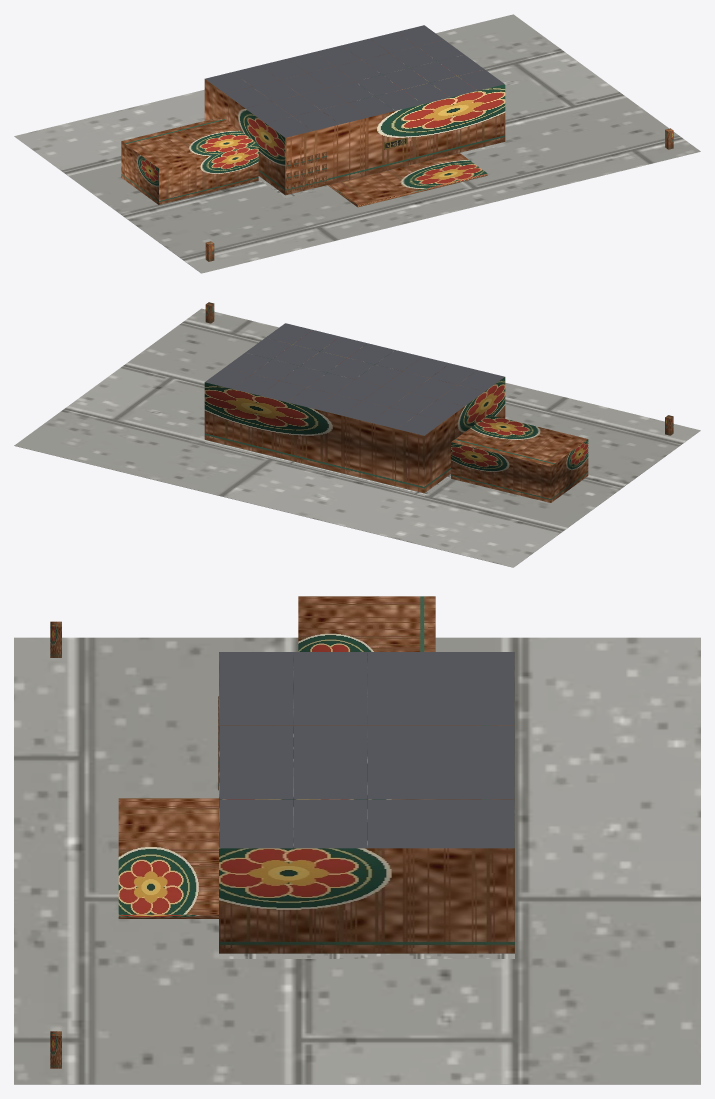
The picture shows the model from 3 angles, top to bottom: view 1: azimuth 30°, elevation 25°; view 2: azimuth 150°, elevation 25°; view 3: azimuth 270°, elevation 25°; orthographic projection. The views are drawn at different scales.
Visible parts, largest first — view 1: 11710_01_05710_030_01_L2__base, 11710_01_05710_030_02_L2__body, 11710_01_05710_030_03_L2__roof, 11710_01_05710_030_05_L2__openings; view 2: 11710_01_05710_030_01_L2__base, 11710_01_05710_030_02_L2__body, 11710_01_05710_030_03_L2__roof; view 3: 11710_01_05710_030_01_L2__base, 11710_01_05710_030_03_L2__roof, 11710_01_05710_030_02_L2__body, 11710_01_05710_030_06_L2__green.
Boxes of the visible parts, x1=… form: 11710_01_05710_030_01_L2__base: x1=14, y1=14, x2=700, y2=273; 11710_01_05710_030_02_L2__body: x1=121, y1=34, x2=505, y2=207; 11710_01_05710_030_03_L2__roof: x1=205, y1=25, x2=504, y2=137; 11710_01_05710_030_05_L2__openings: x1=286, y1=151, x2=326, y2=192; 11710_01_05710_030_01_L2__base: x1=14, y1=308, x2=700, y2=567; 11710_01_05710_030_02_L2__body: x1=204, y1=330, x2=588, y2=502; 11710_01_05710_030_03_L2__roof: x1=205, y1=323, x2=504, y2=435; 11710_01_05710_030_01_L2__base: x1=14, y1=637, x2=700, y2=1084; 11710_01_05710_030_03_L2__roof: x1=219, y1=652, x2=514, y2=848; 11710_01_05710_030_02_L2__body: x1=118, y1=596, x2=514, y2=953; 11710_01_05710_030_06_L2__green: x1=50, y1=621, x2=61, y2=1068.
Bounding box in the file's own units: 200 × 23.22 × 130.
Materials: 5 (5 with a texture image).
